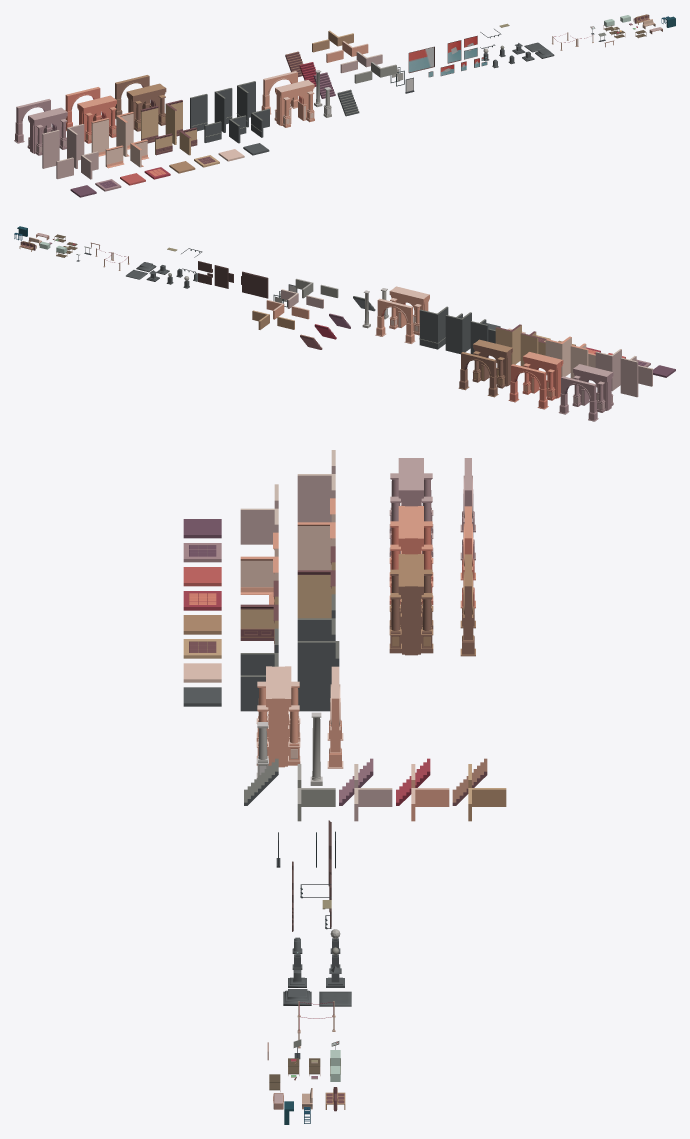
The model's file is MuseumAsset.fbx.
3 views of the same model, one above another, from view 1: azimuth 30°, elevation 25°; view 2: azimuth 150°, elevation 25°; view 3: azimuth 270°, elevation 25° (orthographic). The views are drawn at different scales.
Parts seen in each view (by area): view 1: Arch, Arch3, Arch7, Arch5, WallBigCornerOuter, WallBigCornerOuter1, WallBigCorner1, WallBigCorner2, WallBig, WallBigCorner, Arch4, WallBig1 (+17 smaller); view 2: Arch3, Arch5, Arch7, Arch, WallBigCornerOuter1, WallBigCornerOuter, Arch1, Arch6, Arch4, Arch8, WallBig, WallBigCorner1 (+7 smaller); view 3: Arch7, Arch, WallBigCornerOuter1, Arch5, Arch3, WallBigCorner2, WallBigCorner1, WallBigCorner, WallSmallCorner1, WallSmallCorner2, WallSmallCorner, Arch1 (+1 smaller).
Boxes of the visible parts, x1=… form: Arch: x1=274, y1=80, x2=314, y2=127; Arch3: x1=27, y1=107, x2=67, y2=155; Arch7: x1=126, y1=83, x2=166, y2=131; Arch5: x1=77, y1=95, x2=116, y2=143; WallBigCornerOuter: x1=214, y1=88, x2=232, y2=132; WallBigCornerOuter1: x1=236, y1=81, x2=255, y2=127; WallBigCorner1: x1=116, y1=112, x2=133, y2=156; WallBigCorner2: x1=165, y1=100, x2=182, y2=144; WallBig: x1=42, y1=130, x2=59, y2=168; WallBigCorner: x1=67, y1=124, x2=84, y2=168; Arch4: x1=14, y1=99, x2=52, y2=143; WallBig1: x1=91, y1=118, x2=108, y2=156; Arch3: x1=572, y1=364, x2=613, y2=412; Arch5: x1=522, y1=352, x2=563, y2=400; Arch7: x1=472, y1=339, x2=512, y2=388; Arch: x1=389, y1=286, x2=429, y2=335; WallBigCornerOuter1: x1=419, y1=306, x2=448, y2=349; WallBigCornerOuter: x1=445, y1=312, x2=471, y2=354; Arch1: x1=375, y1=298, x2=415, y2=343; Arch6: x1=508, y1=364, x2=548, y2=409; Arch4: x1=558, y1=376, x2=598, y2=421; Arch8: x1=458, y1=352, x2=498, y2=397; WallBig: x1=620, y1=358, x2=638, y2=397; WallBigCorner1: x1=545, y1=336, x2=571, y2=376; Arch7: x1=389, y1=554, x2=433, y2=655; Arch: x1=256, y1=666, x2=300, y2=767; WallBigCornerOuter1: x1=297, y1=641, x2=339, y2=711; Arch5: x1=389, y1=506, x2=433, y2=605; Arch3: x1=389, y1=458, x2=433, y2=557; WallBigCorner2: x1=297, y1=570, x2=335, y2=618; WallBigCorner1: x1=297, y1=522, x2=335, y2=570; WallBigCorner: x1=297, y1=474, x2=335, y2=522; WallSmallCorner1: x1=240, y1=556, x2=278, y2=604; WallSmallCorner2: x1=240, y1=604, x2=278, y2=650; WallSmallCorner: x1=240, y1=508, x2=278, y2=544; Arch1: x1=327, y1=666, x2=343, y2=768.
Size of the model in its own units: 7557 by 420 by 1700.
Materials: 2 (2 with a texture image).
